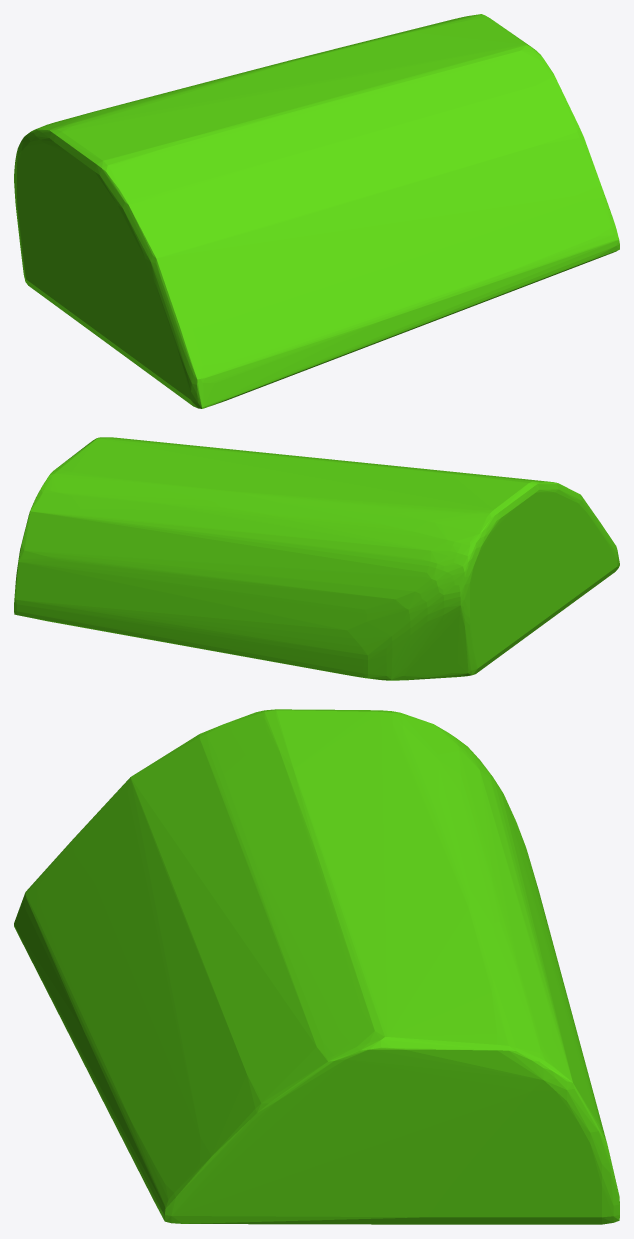
Rendered from left-elbow-0_part_17.obj.
3 renders of one model, top to bottom at view 1: azimuth 30°, elevation 25°; view 2: azimuth 150°, elevation 25°; view 3: azimuth 270°, elevation 25°, orthographic. The views are drawn at different scales.
Bounding box in the file's own units: 0.0556 × 0.0193 × 0.0474.
